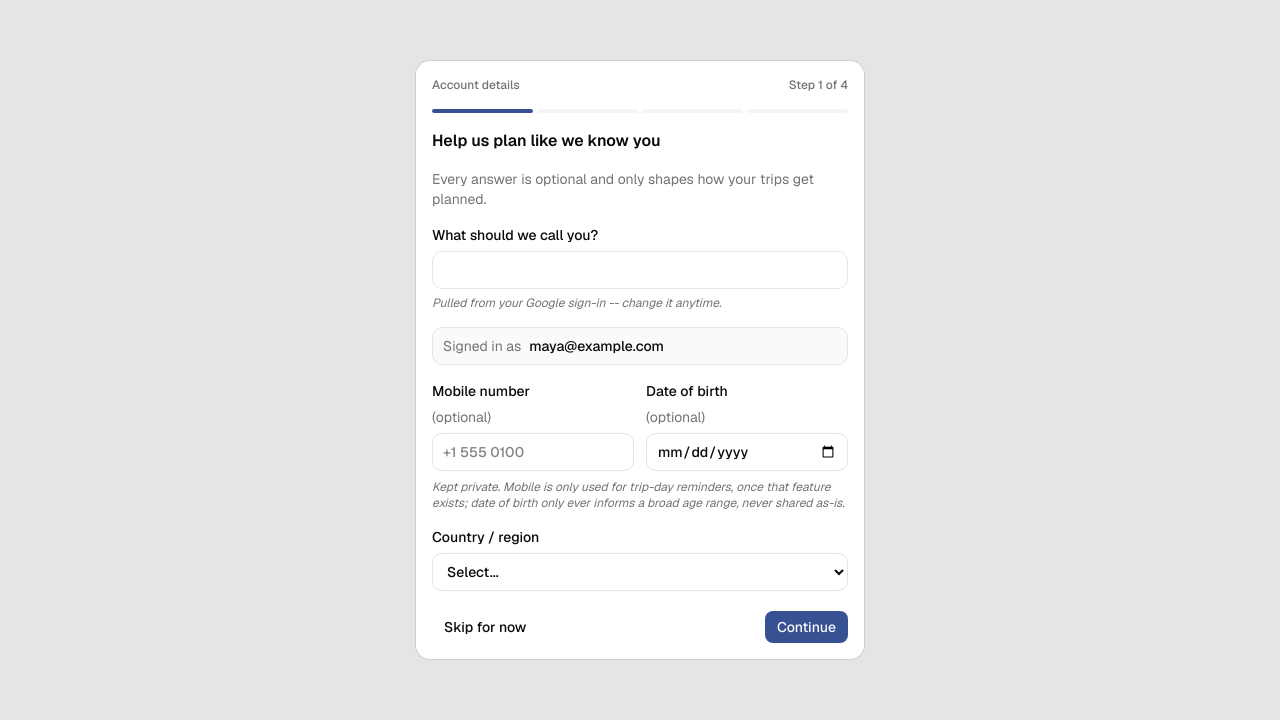
Test: OnboardingFlow › shows an inline error and stays open when the save fails
Click the button "Continue" at (806, 627), box [765,611,848,643]
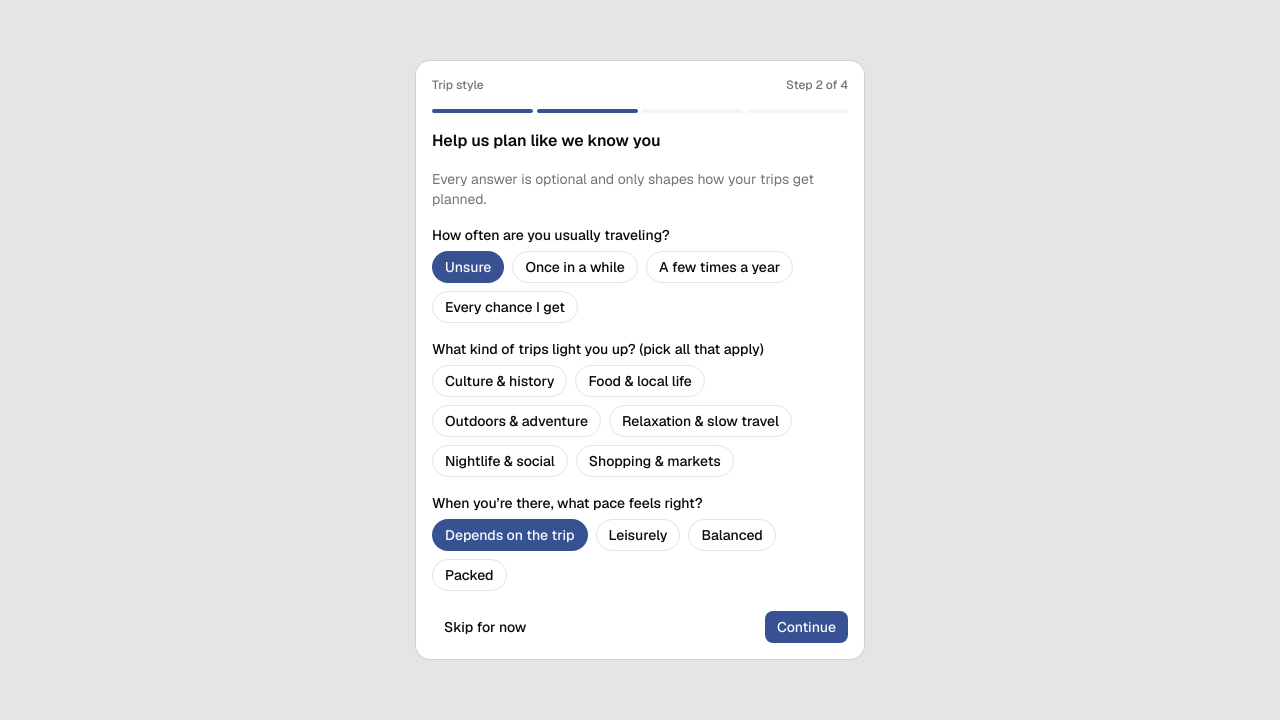
Click the button "Continue" at (806, 627), box [765,611,848,643]
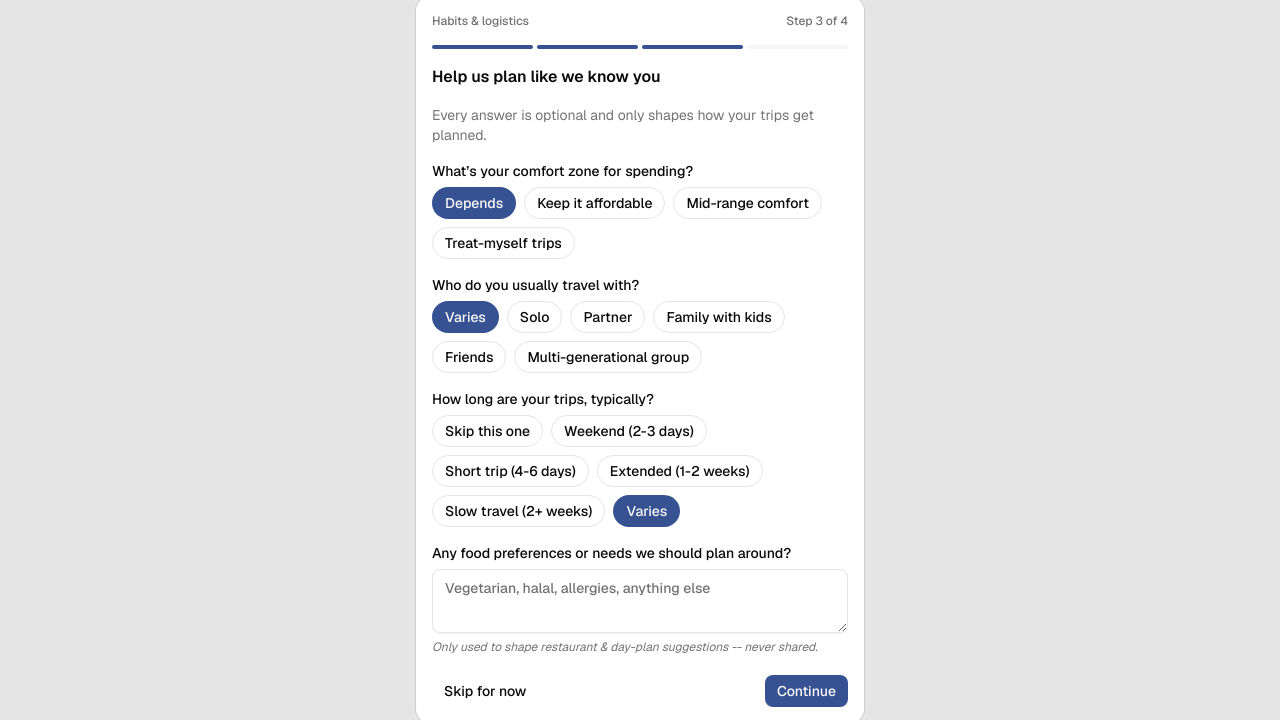
Click the button "Continue" at (806, 691), box [765,675,848,707]
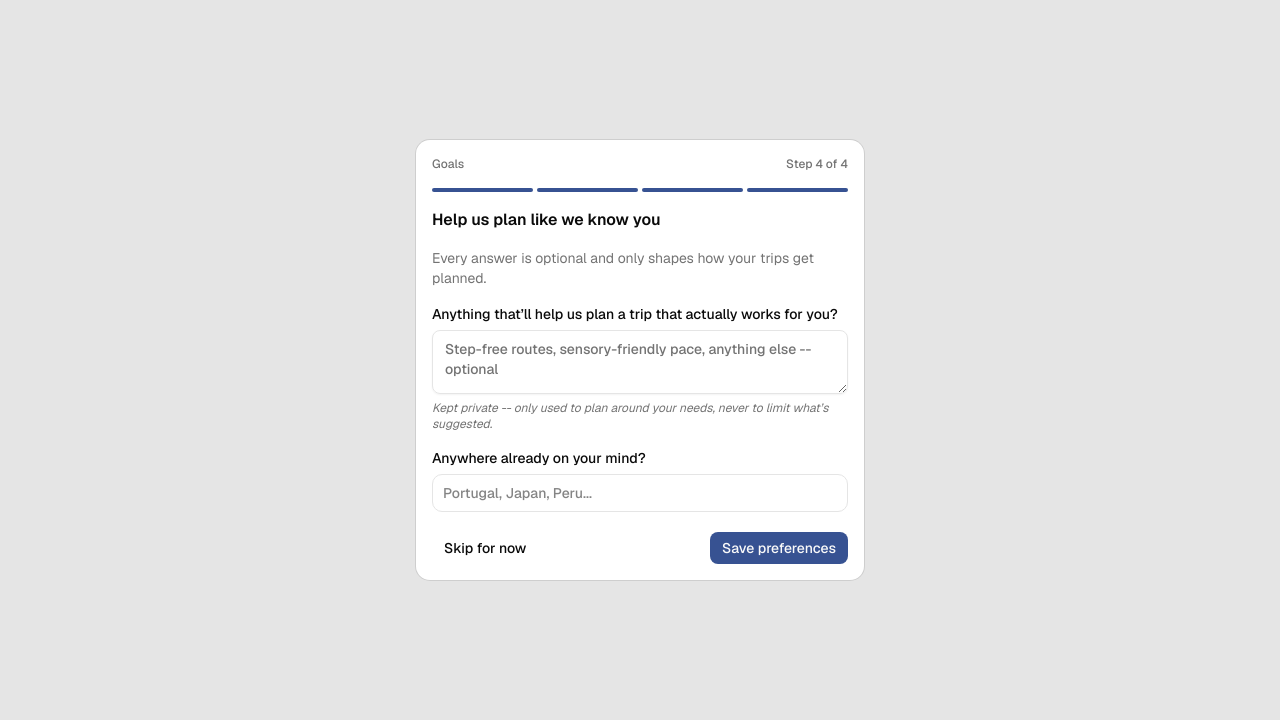
Click the button "Save preferences" at (779, 548), box [710,532,848,564]
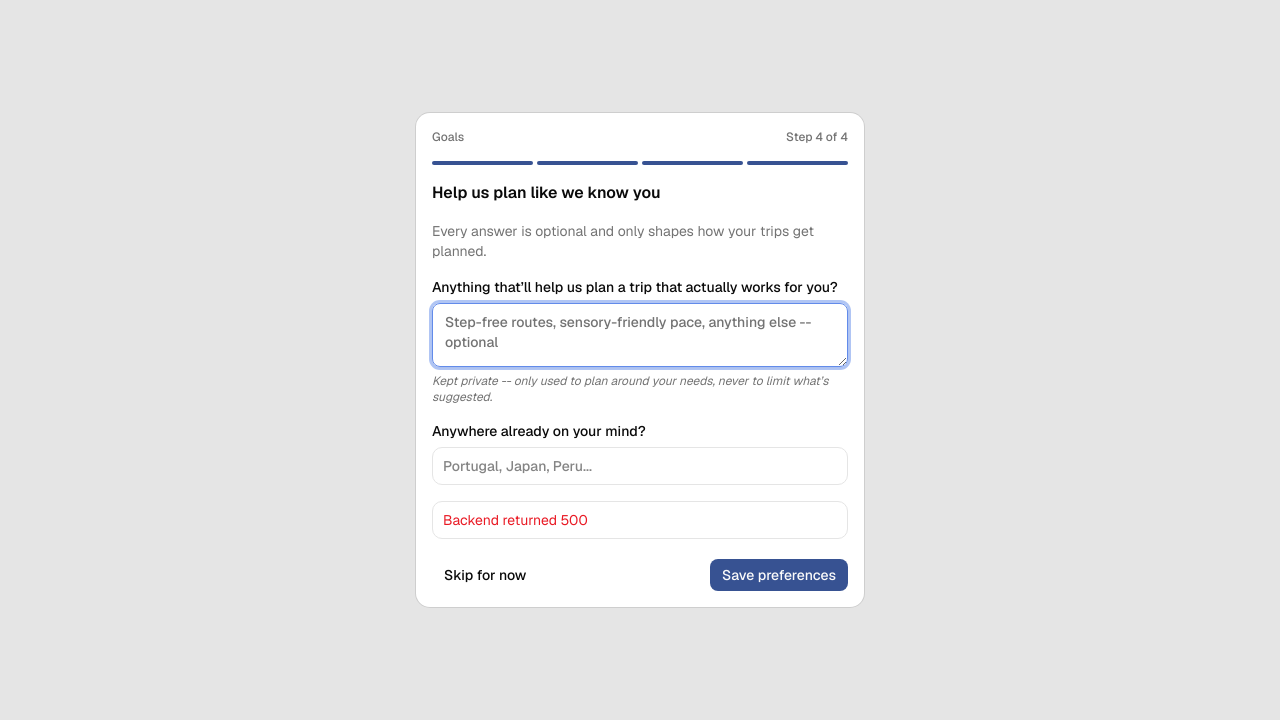
Check: the text "Step 4 of 4" is shown, box [786,129,848,145]
Check: the text "Backend returned 500" is shown, box [443,511,588,529]
